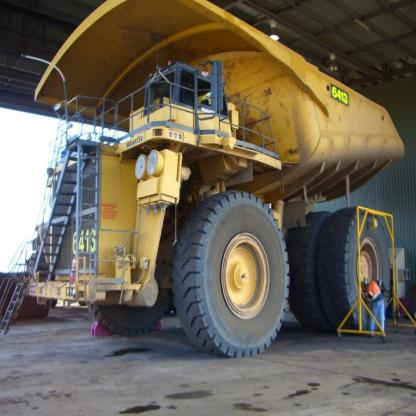dump_truck: (26, 7, 414, 355)
